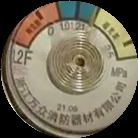green: (58, 2, 98, 26)
needle: (89, 6, 97, 36)
red: (13, 3, 62, 51)
yellow: (96, 10, 137, 59)
